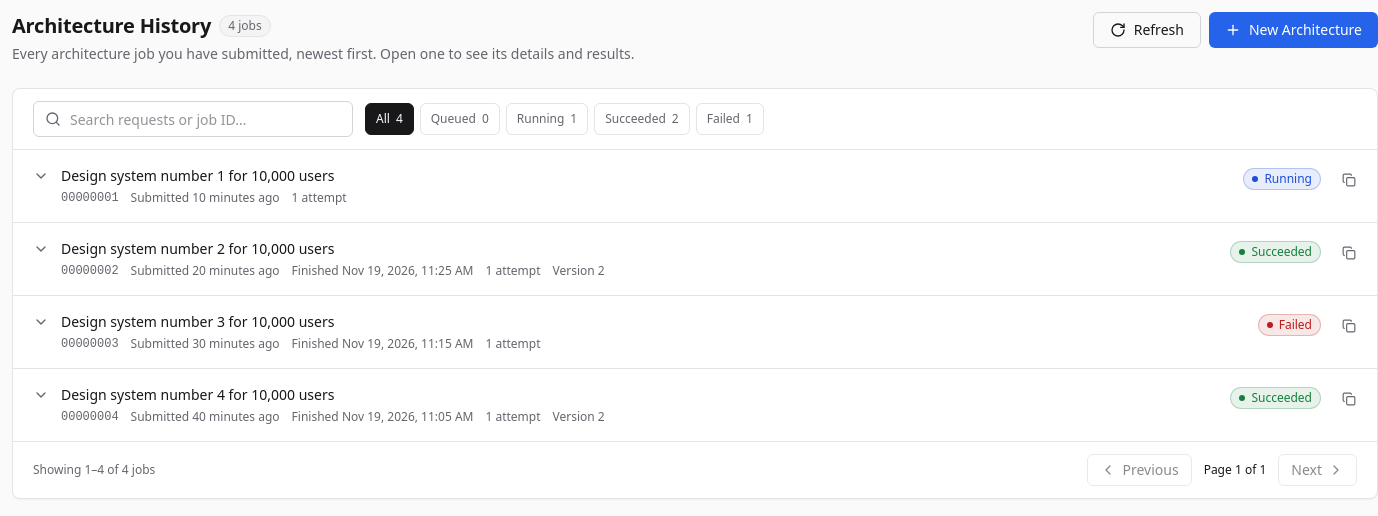
Test: Architecture History page › filters by status through the API and keeps it in the URL
Check: the list named "Architecture jobs" is shown, box [13, 150, 1377, 441]
Click the button "Succeeded 2".
click(642, 119)  # box [594, 103, 690, 135]
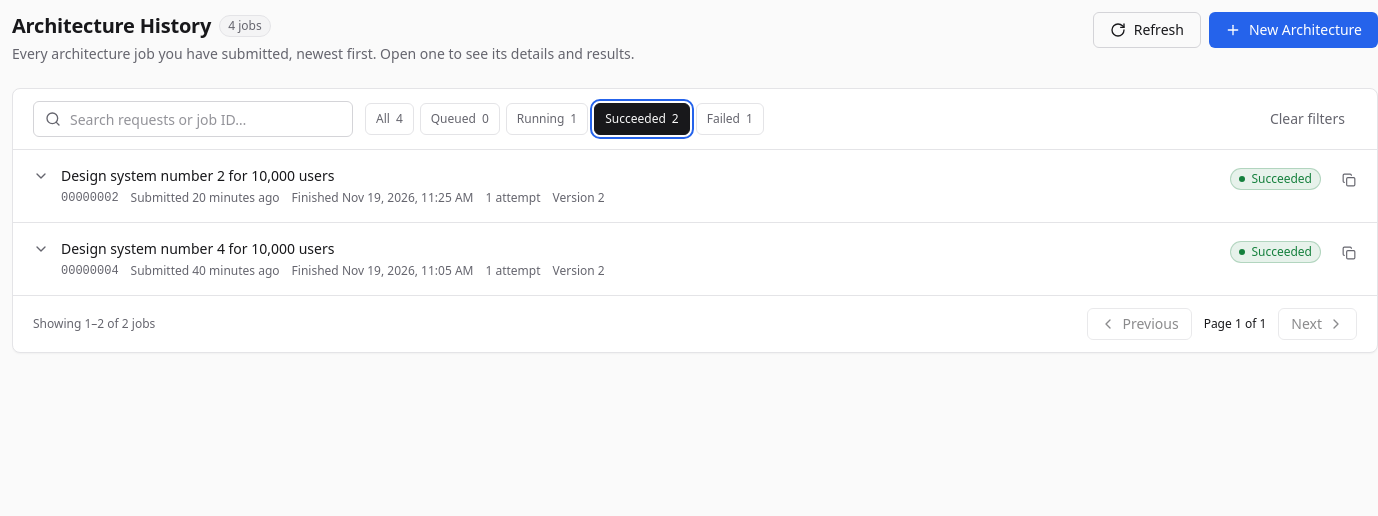
Check: the button "Succeeded 2" is pressed, box [594, 103, 690, 135]
